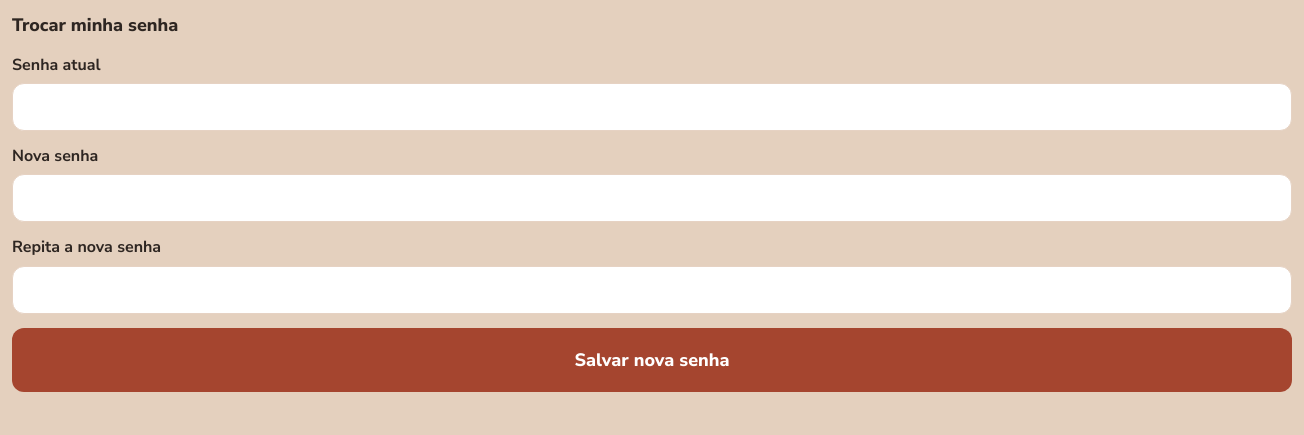
Test case: senha atual incorreta marca o campo
Step 1. Type "errada-123" into the password field labelled "Senha atual" → {"x": 652, "y": 107}, box [12,83,1292,131]
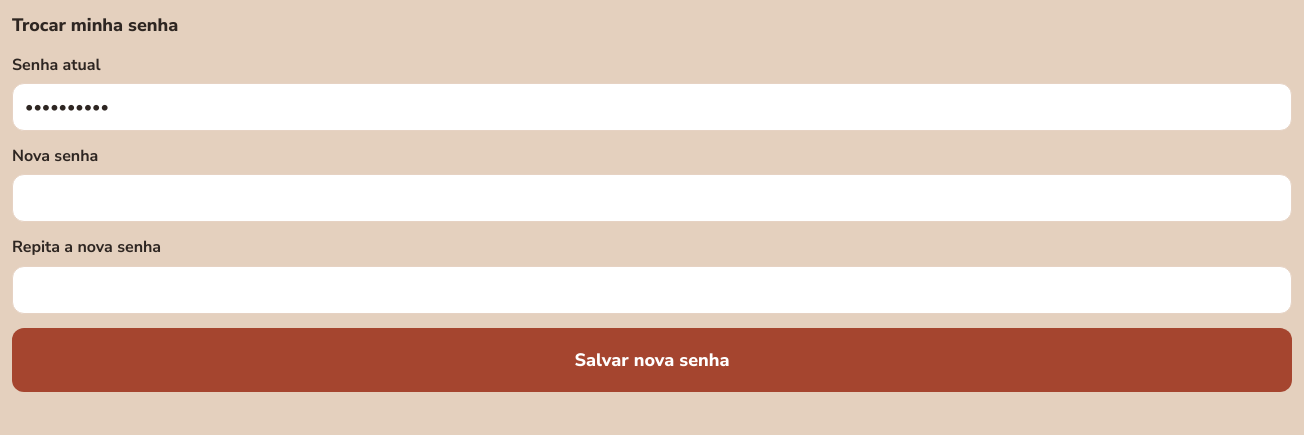
Step 2. Type "nova-senha-123" into the password field labelled "Nova senha" → {"x": 652, "y": 198}, box [12,174,1292,222]
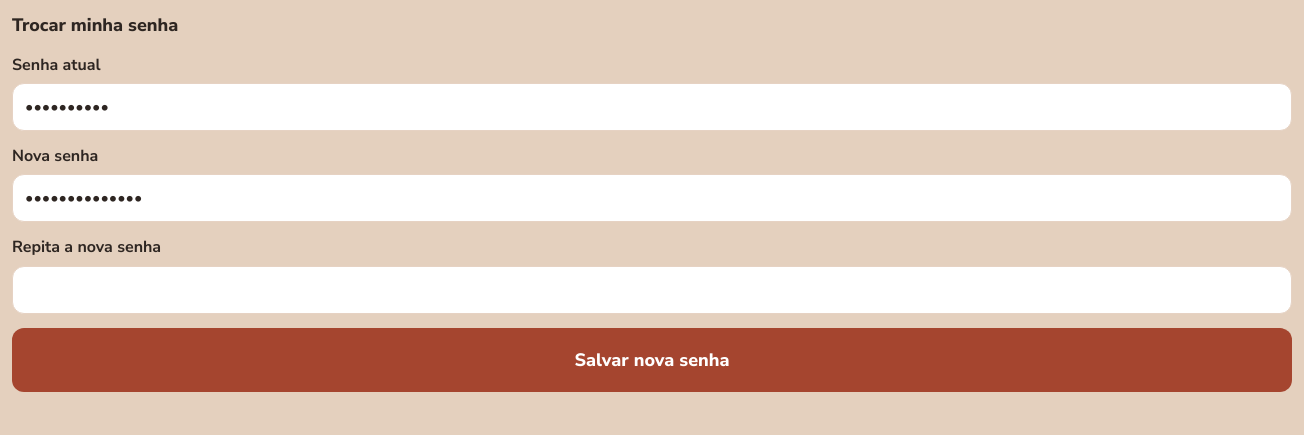
Step 3. Type "nova-senha-123" into the password field labelled "Repita a nova senha" → {"x": 652, "y": 290}, box [12,266,1292,314]
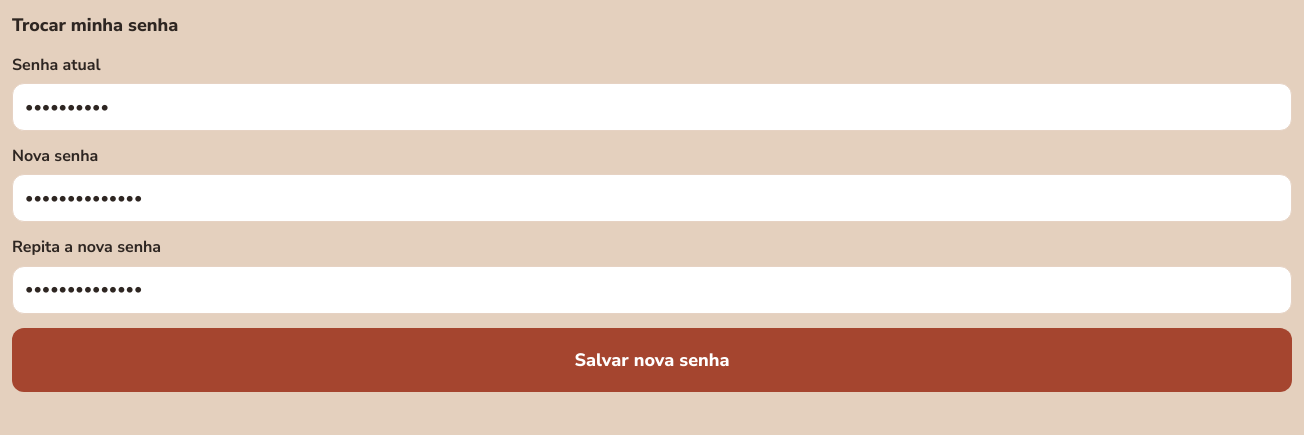
Step 4. Click the button "Salvar nova senha" → {"x": 652, "y": 360}, box [12,328,1292,392]
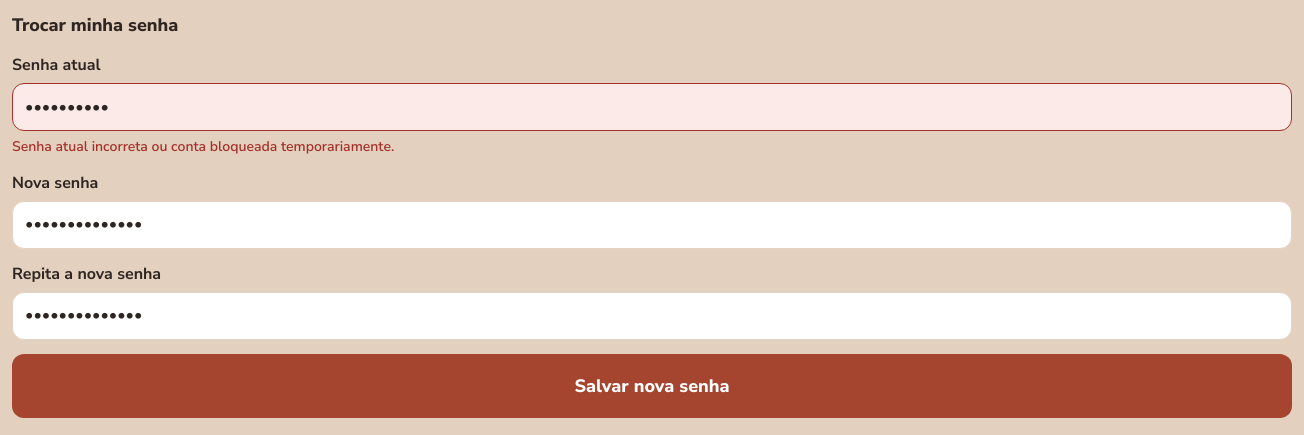
Now the text "Senha atual incorreta ou conta bloqueada temporariamente." is shown, box [12,137,394,156]
